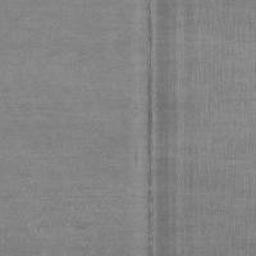Welding line: (147, 0, 155, 256)
